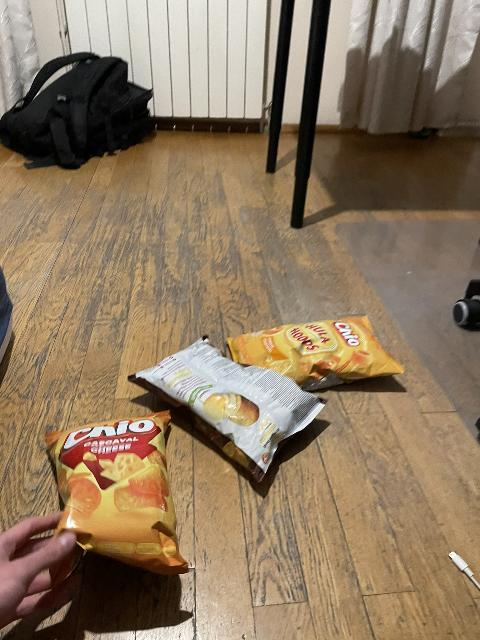Chio Hula Hoops Cheese 70g: (42, 410, 189, 580), (230, 319, 397, 384)
Lays Beef Grilled Ribs 125g: (132, 336, 326, 484)
